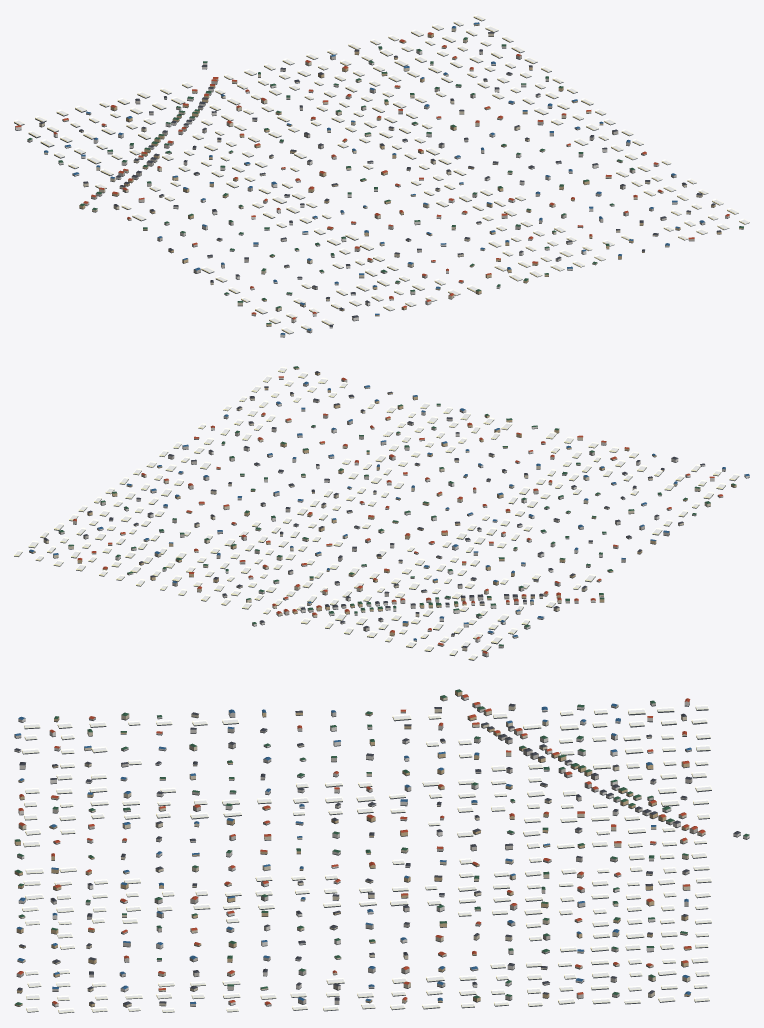
File: buildings_T_E02_N04.glb
The picture shows the model from 3 angles, top to bottom: view 1: azimuth 30°, elevation 25°; view 2: azimuth 150°, elevation 25°; view 3: azimuth 270°, elevation 25°; orthographic projection. The views are drawn at different scales.
Visible parts, largest first — view 1: T_E02_N04_roofs_agri_greenhouse_arch, T_E02_N04_slope_seating_foundations, T_E02_N04_walls_wall_pastel_sand_gray, T_E02_N04_walls_wall_french_ochre_villa, T_E02_N04_walls_wall_dalat_cream_stucco, T_E02_N04_roofs_roof_slate_French_villa_hip, T_E02_N04_walls_wall_modern_warm_white, T_E02_N04_roofs_roof_pine_green_hip, T_E02_N04_roofs_roof_terracotta_gable, T_E02_N04_roofs_roof_highland_blue_gable; view 2: T_E02_N04_roofs_agri_greenhouse_arch, T_E02_N04_slope_seating_foundations, T_E02_N04_walls_wall_pastel_sand_gray, T_E02_N04_walls_wall_dalat_cream_stucco, T_E02_N04_walls_wall_french_ochre_villa, T_E02_N04_roofs_roof_slate_French_villa_hip, T_E02_N04_walls_wall_modern_warm_white, T_E02_N04_roofs_roof_pine_green_hip, T_E02_N04_roofs_roof_terracotta_gable, T_E02_N04_roofs_roof_highland_blue_gable; view 3: T_E02_N04_roofs_agri_greenhouse_arch, T_E02_N04_slope_seating_foundations, T_E02_N04_walls_wall_pastel_sand_gray, T_E02_N04_walls_wall_french_ochre_villa, T_E02_N04_walls_wall_dalat_cream_stucco, T_E02_N04_walls_wall_modern_warm_white, T_E02_N04_roofs_roof_slate_French_villa_hip, T_E02_N04_roofs_roof_pine_green_hip, T_E02_N04_roofs_roof_terracotta_gable, T_E02_N04_roofs_roof_highland_blue_gable.
Boxes of the visible parts, x1=… form: T_E02_N04_roofs_agri_greenhouse_arch: x1=14, y1=14, x2=749, y2=333; T_E02_N04_slope_seating_foundations: x1=14, y1=16, x2=749, y2=337; T_E02_N04_walls_wall_pastel_sand_gray: x1=27, y1=46, x2=705, y2=332; T_E02_N04_walls_wall_french_ochre_villa: x1=79, y1=23, x2=743, y2=326; T_E02_N04_walls_wall_dalat_cream_stucco: x1=39, y1=27, x2=702, y2=311; T_E02_N04_roofs_roof_slate_French_villa_hip: x1=39, y1=32, x2=721, y2=326; T_E02_N04_walls_wall_modern_warm_white: x1=15, y1=50, x2=729, y2=336; T_E02_N04_roofs_roof_pine_green_hip: x1=27, y1=37, x2=743, y2=324; T_E02_N04_roofs_roof_terracotta_gable: x1=15, y1=32, x2=729, y2=319; T_E02_N04_roofs_roof_highland_blue_gable: x1=44, y1=22, x2=704, y2=334; T_E02_N04_roofs_agri_greenhouse_arch: x1=14, y1=366, x2=739, y2=659; T_E02_N04_slope_seating_foundations: x1=14, y1=368, x2=749, y2=660; T_E02_N04_walls_wall_pastel_sand_gray: x1=58, y1=379, x2=725, y2=647; T_E02_N04_walls_wall_dalat_cream_stucco: x1=43, y1=386, x2=710, y2=650; T_E02_N04_walls_wall_french_ochre_villa: x1=29, y1=367, x2=736, y2=635; T_E02_N04_roofs_roof_slate_French_villa_hip: x1=44, y1=371, x2=704, y2=647; T_E02_N04_walls_wall_modern_warm_white: x1=97, y1=377, x2=749, y2=656; T_E02_N04_roofs_roof_pine_green_hip: x1=59, y1=366, x2=736, y2=645; T_E02_N04_roofs_roof_terracotta_gable: x1=73, y1=376, x2=722, y2=653; T_E02_N04_roofs_roof_highland_blue_gable: x1=29, y1=381, x2=749, y2=640; T_E02_N04_roofs_agri_greenhouse_arch: x1=22, y1=705, x2=711, y2=1012; T_E02_N04_slope_seating_foundations: x1=14, y1=694, x2=749, y2=1013; T_E02_N04_walls_wall_pastel_sand_gray: x1=14, y1=702, x2=697, y2=1006; T_E02_N04_walls_wall_french_ochre_villa: x1=14, y1=691, x2=691, y2=1006; T_E02_N04_walls_wall_dalat_cream_stucco: x1=17, y1=696, x2=705, y2=1007; T_E02_N04_walls_wall_modern_warm_white: x1=14, y1=695, x2=749, y2=1006; T_E02_N04_roofs_roof_slate_French_villa_hip: x1=14, y1=703, x2=740, y2=1004; T_E02_N04_roofs_roof_pine_green_hip: x1=15, y1=689, x2=749, y2=1005; T_E02_N04_roofs_roof_terracotta_gable: x1=17, y1=694, x2=705, y2=1004; T_E02_N04_roofs_roof_highland_blue_gable: x1=15, y1=703, x2=691, y2=1003.
Bounding box in the file's own units: 1825 × 73.16 × 1848.
